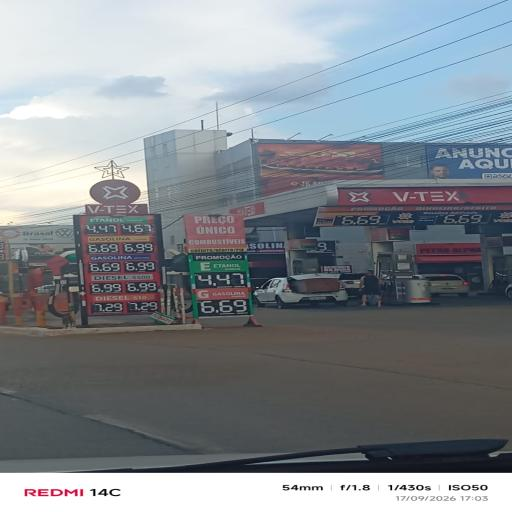ETANOL: (197, 262, 245, 272), (85, 218, 145, 224)
GASOLINA AD: (89, 255, 151, 260)
GASOLINA C: (192, 290, 249, 298), (90, 236, 149, 242)
S10: (94, 295, 149, 301)
S500: (93, 274, 151, 281)
placa: (78, 216, 164, 317), (188, 262, 254, 318)
preco: (196, 299, 255, 316), (194, 272, 247, 288), (91, 282, 123, 294), (89, 262, 122, 273), (80, 224, 116, 234), (94, 302, 124, 313), (88, 244, 120, 254)
